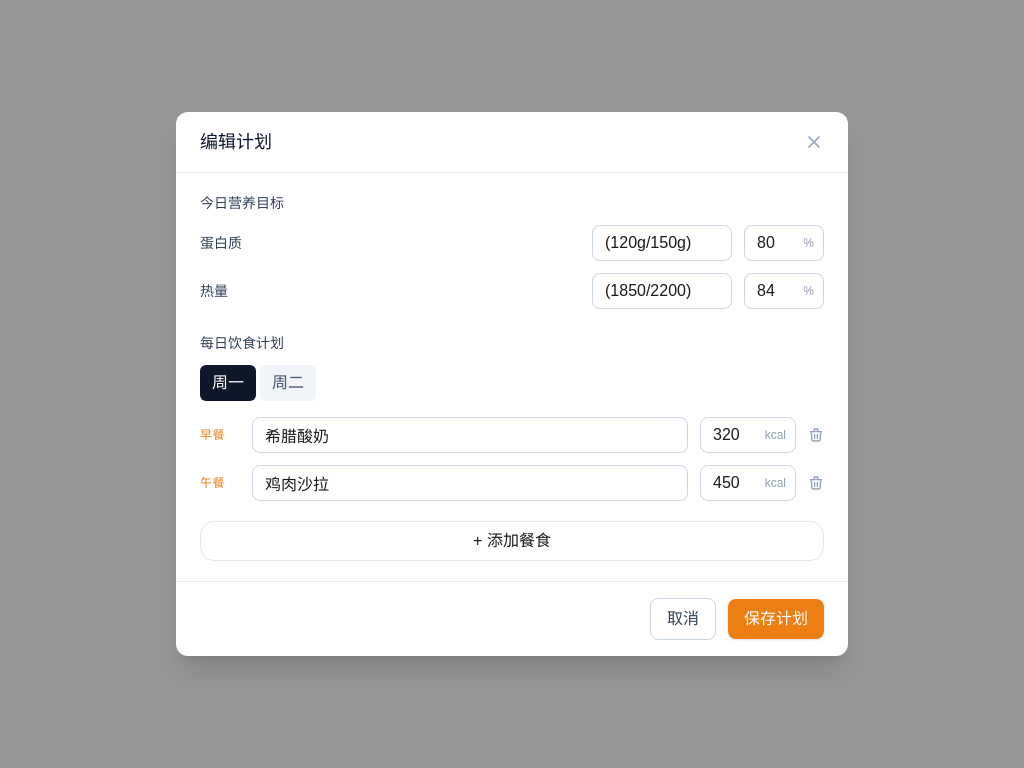
it: EditPlanModal › T11: 点击删除按钮后对应 meal 从列表消失
The width and height of the screenshot is (1024, 768).
expect the number of fields with placeholder "餐食名称" is 2: met, box [252, 417, 688, 453]; [252, 465, 688, 501]
// 删除第一个餐食（周一有 2 条，可以删）
Click the button named "删除餐食" in the row of "早餐" at [816, 435], box [808, 427, 824, 443]
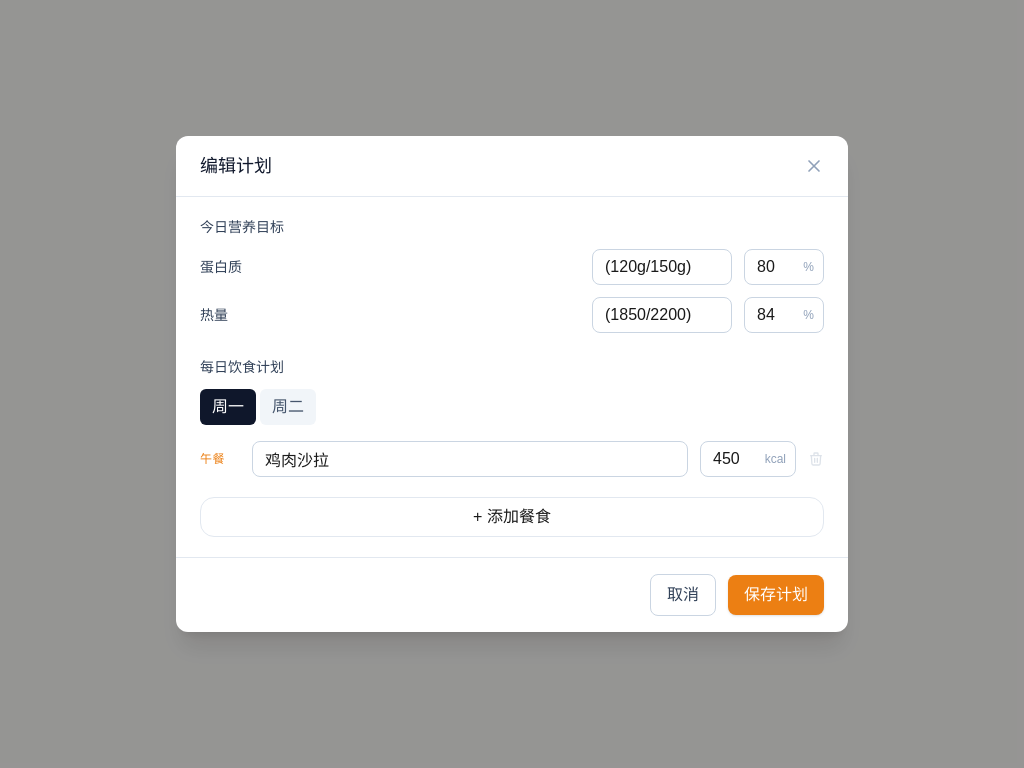
expect the field showing "希腊酸奶" is not shown: met
expect the number of fields with placeholder "餐食名称" is 1: met, box [252, 441, 688, 477]
